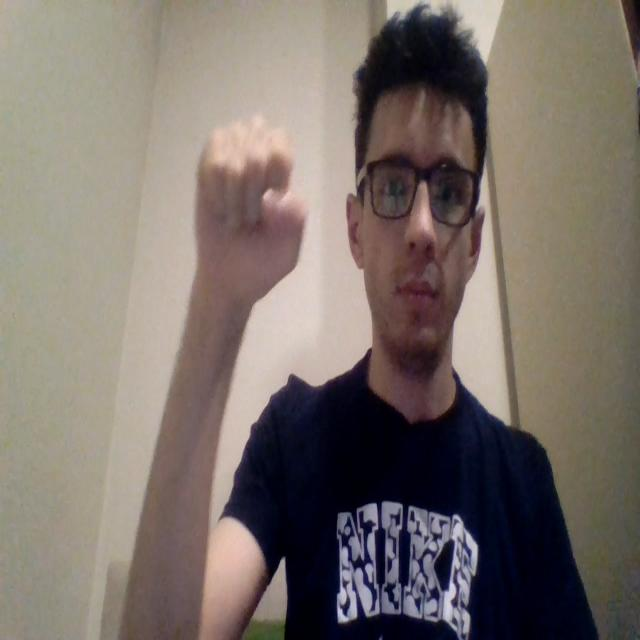yes: (192, 112, 308, 310)
